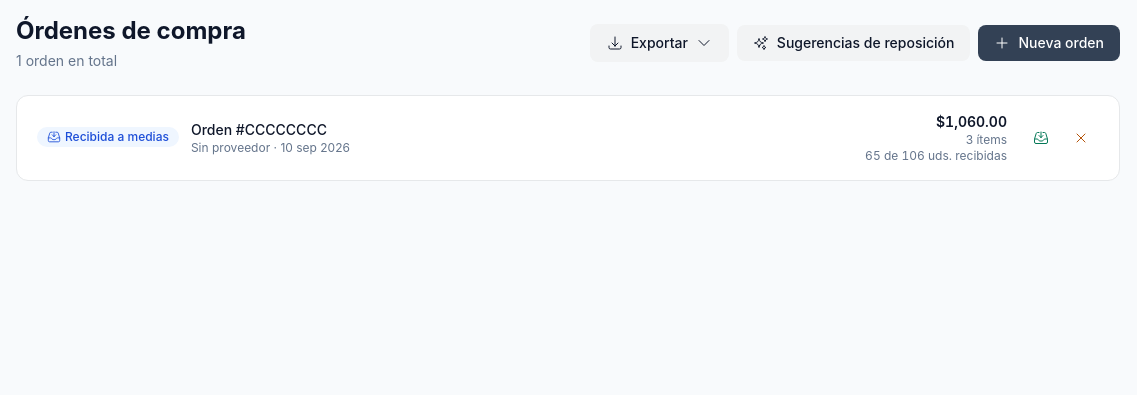
Test: PurchaseOrdersPage — recepción parcial (T5-04) › Una orden a medias en la lista › desplegada, enseña lo recibido de cada línea
Step 1. Click the text "Orden #CCCCCCCC" → (270, 130), box top-left (191, 120), bottom-right (350, 140)
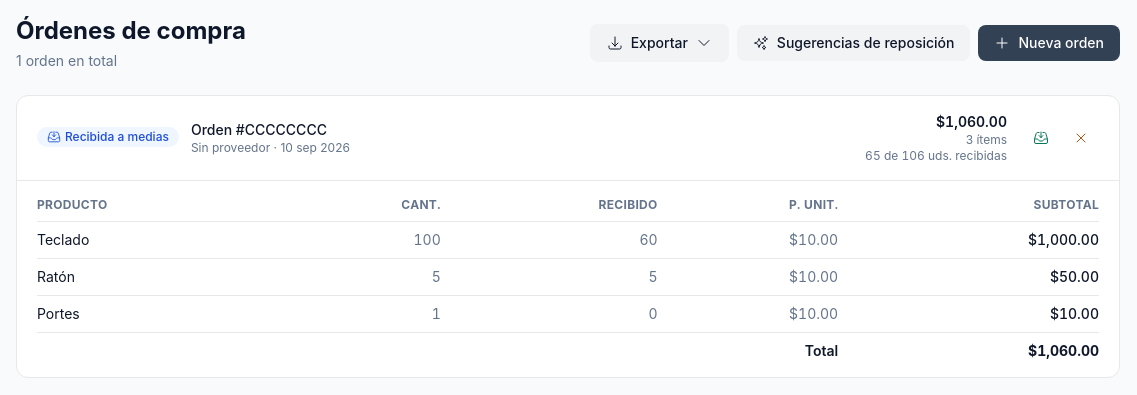
expect the column heading "Recibido" is shown: met, box top-left (441, 197), bottom-right (658, 222)
expect the text "60" is shown: met, box top-left (441, 222), bottom-right (658, 258)
